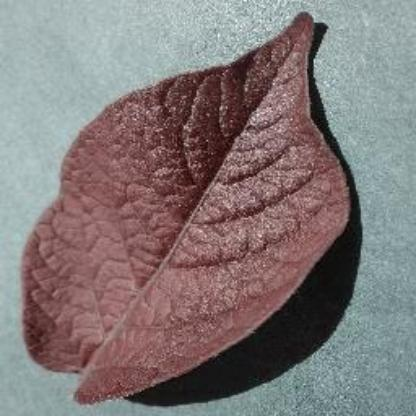Healthy-plant: (20, 6, 370, 404)
